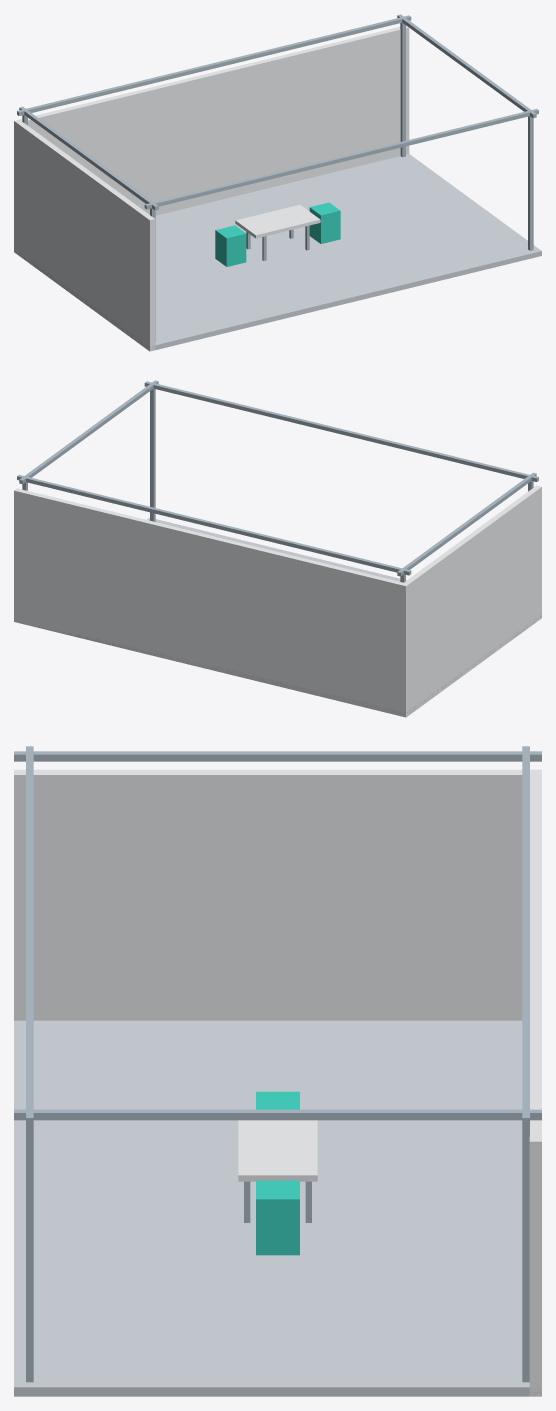
3 renders of one model, top to bottom at view 1: azimuth 30°, elevation 25°; view 2: azimuth 150°, elevation 25°; view 3: azimuth 270°, elevation 25°, orthographic. The views are drawn at different scales.
Parts seen in each view (by area): view 1: Exhibition Booth Concept; view 2: Exhibition Booth Concept; view 3: Exhibition Booth Concept.
Boxes of the visible parts, left/top/right/bottom form: Exhibition Booth Concept: left=14, top=14, right=541, bottom=351; Exhibition Booth Concept: left=14, top=380, right=541, bottom=717; Exhibition Booth Concept: left=14, top=746, right=541, bottom=1396.
Size of the model in its own units: 10 by 3.49 by 6.
